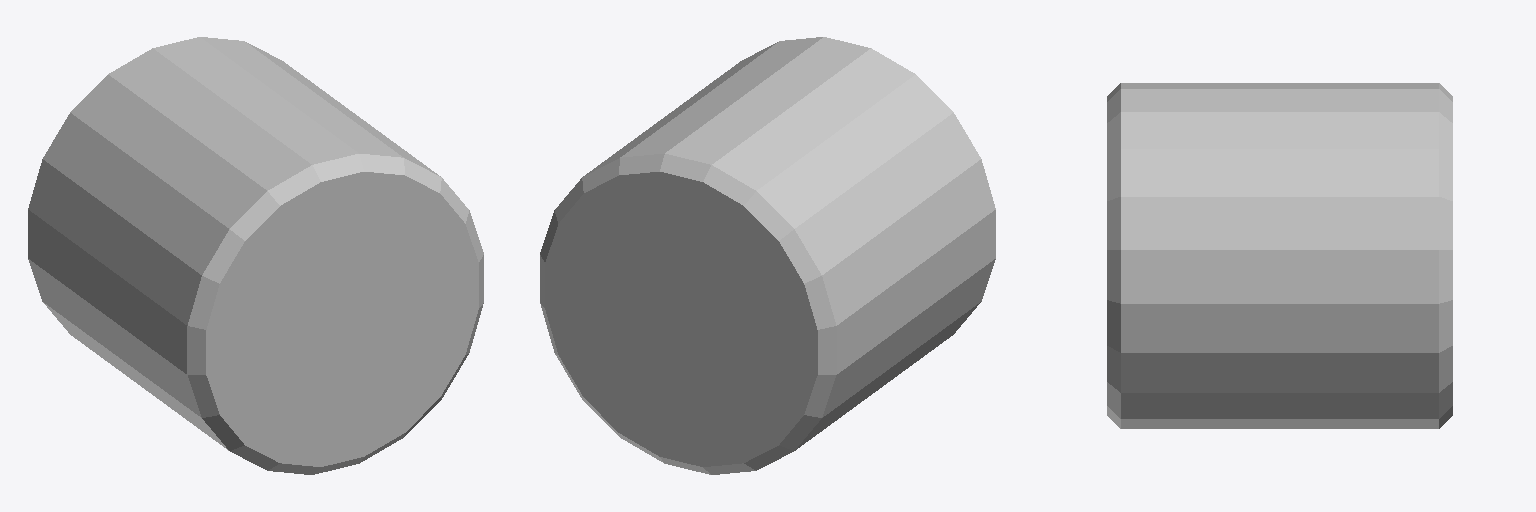
File: beveledCylinder.obj
3 views of the same model, side by side, from view 1: azimuth 30°, elevation 25°; view 2: azimuth 150°, elevation 25°; view 3: azimuth 270°, elevation 25° (orthographic).
Parts seen in each view (by area): view 1: hexCylinder; view 2: hexCylinder; view 3: hexCylinder.
Boxes of the visible parts, x1=… form: hexCylinder: x1=28, y1=37, x2=483, y2=474; hexCylinder: x1=540, y1=37, x2=995, y2=474; hexCylinder: x1=1107, y1=83, x2=1452, y2=428.
Size of the model in its own units: 0.9877 by 0.9877 by 1.